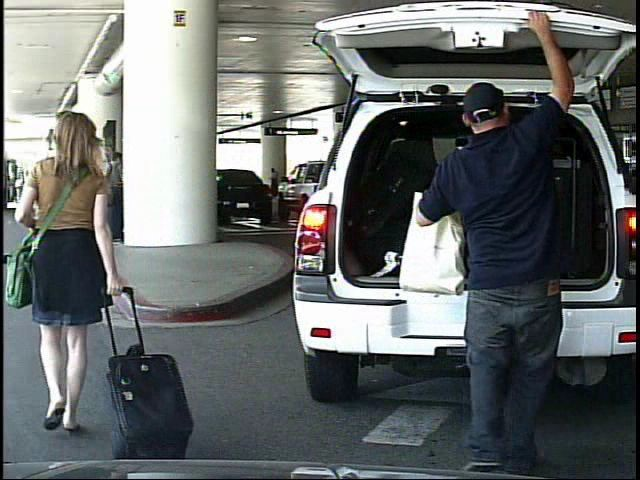person: (404, 11, 590, 480), (25, 109, 153, 441), (14, 173, 24, 200), (271, 165, 280, 192)
